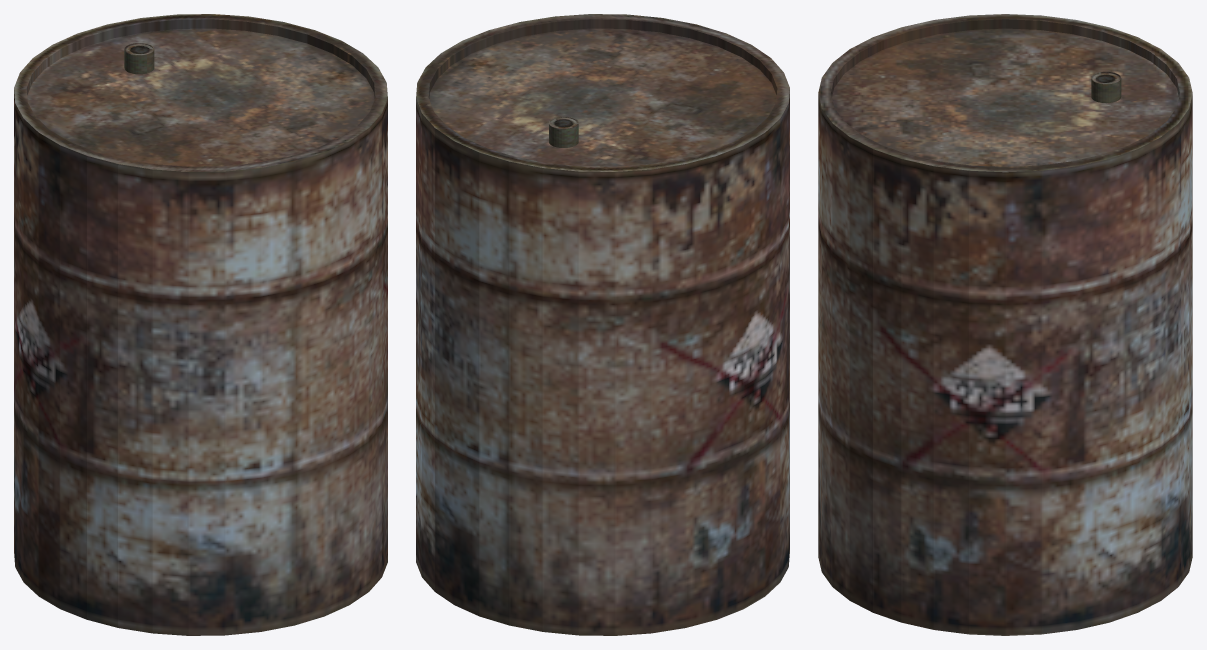
The model's file is barrel4.obj.
3 views of the same model, side by side, from view 1: azimuth 30°, elevation 25°; view 2: azimuth 150°, elevation 25°; view 3: azimuth 270°, elevation 25° (orthographic).
Parts seen in each view (by area): view 1: Цилиндр.001_Цилиндр.003; view 2: Цилиндр.001_Цилиндр.003; view 3: Цилиндр.001_Цилиндр.003.
Part boxes in pixels (x1,y1,x2,y2): Цилиндр.001_Цилиндр.003: (14,14,387,635); Цилиндр.001_Цилиндр.003: (416,14,789,635); Цилиндр.001_Цилиндр.003: (818,14,1192,635).
Bounding box in the file's own units: 0.729 × 1.02 × 0.729.
